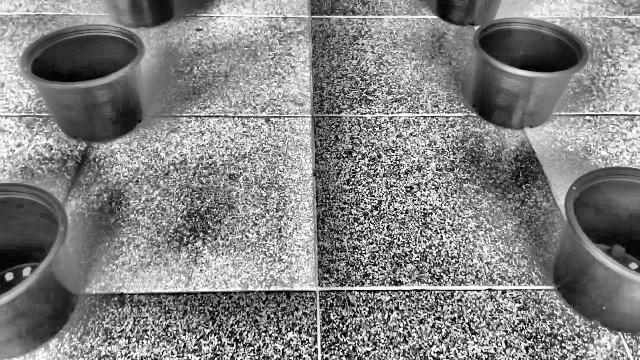pot: (19, 24, 147, 144), (551, 168, 640, 333), (0, 184, 80, 360), (470, 18, 588, 131)
